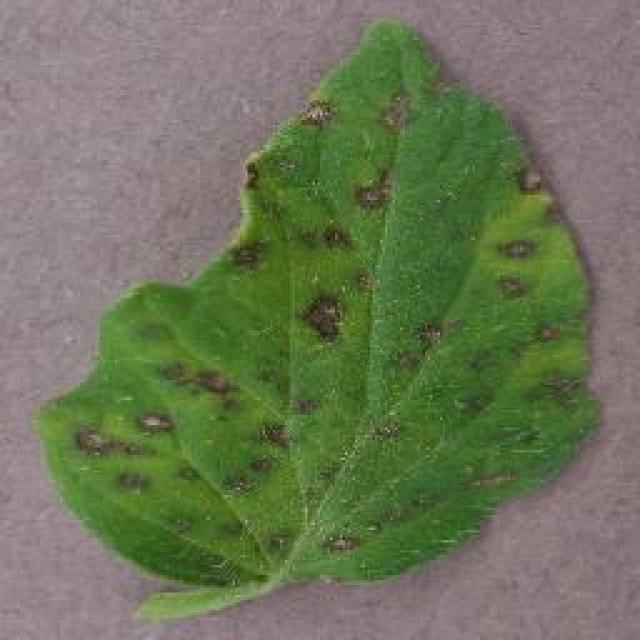Tomato___Septoria_leaf_spot: (38, 22, 595, 620)
